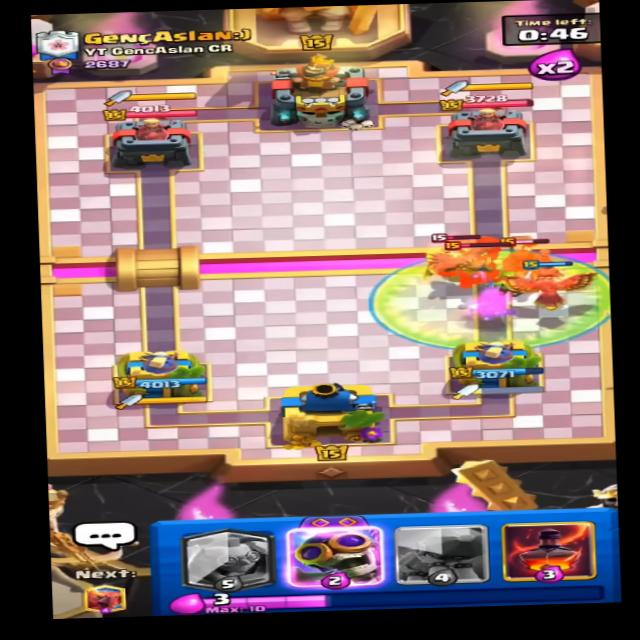phoenix: (405, 235, 515, 279)
prince: (492, 234, 565, 286)
